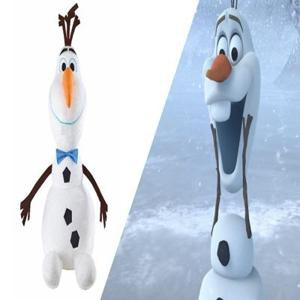olaf: (205, 8, 271, 296)
